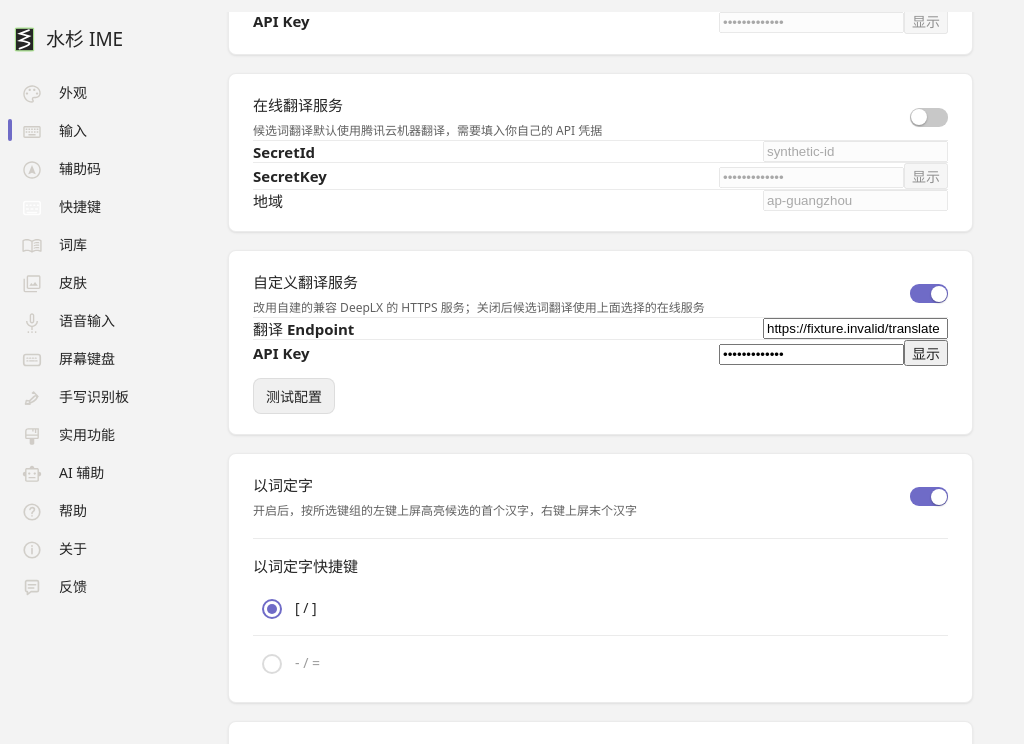
Test: Windows custom translation probe sends current settings only on click
(page scrolled)
Step 1. Click the button with aria-label "测试自定义翻译配置" → (294, 396), box [253,378,335,414]
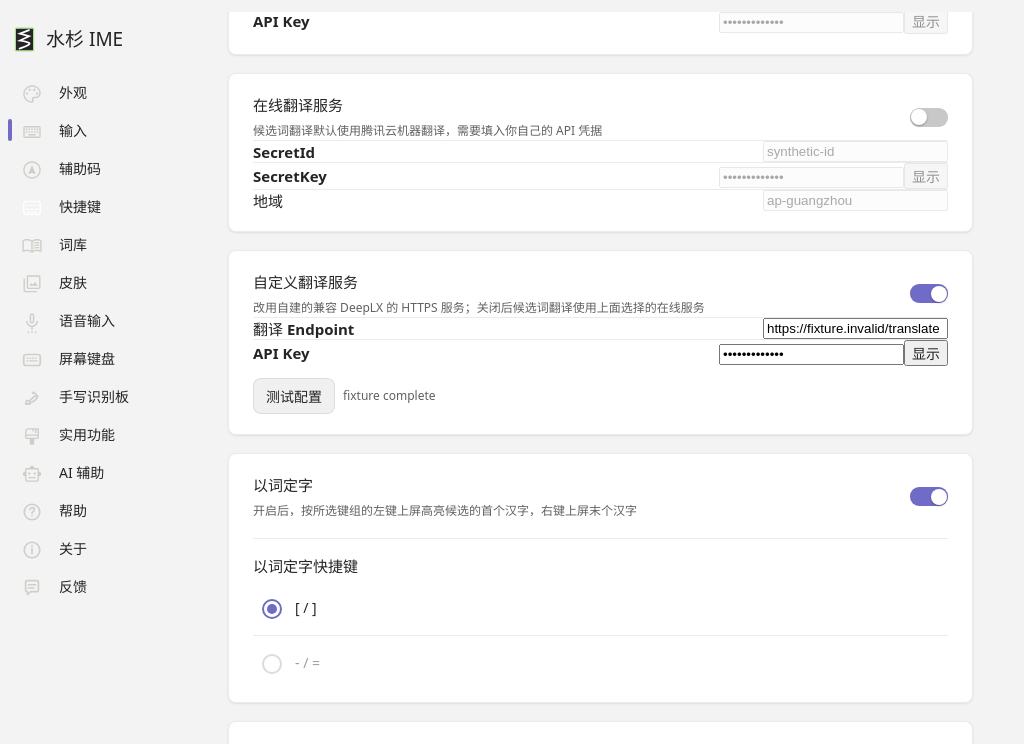
expect the text "fixture complete" is shown: met, box [343,388,436,404]
